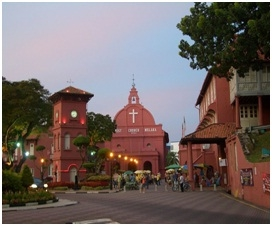Church: (95, 75, 164, 177)
